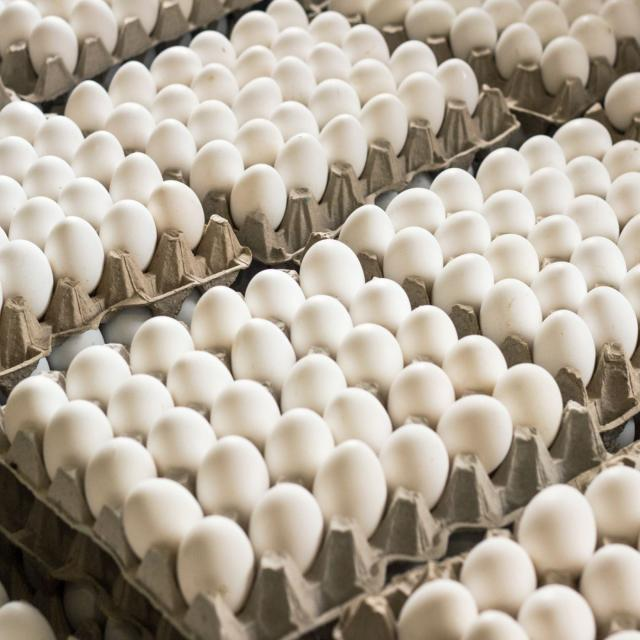huevos: (299, 239, 367, 304)
